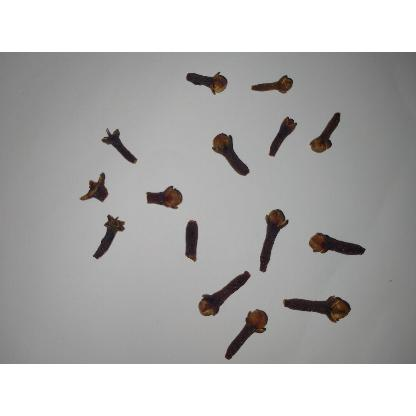baik: (197, 272, 251, 318), (224, 310, 269, 360), (258, 209, 290, 274), (283, 297, 352, 323)
buruk: (93, 215, 126, 260), (102, 129, 137, 164), (145, 186, 183, 210), (250, 75, 294, 95), (80, 174, 109, 203), (184, 221, 199, 262)
sedang: (210, 133, 250, 177), (309, 113, 341, 154), (308, 233, 365, 256), (267, 117, 298, 158), (186, 73, 228, 95)
